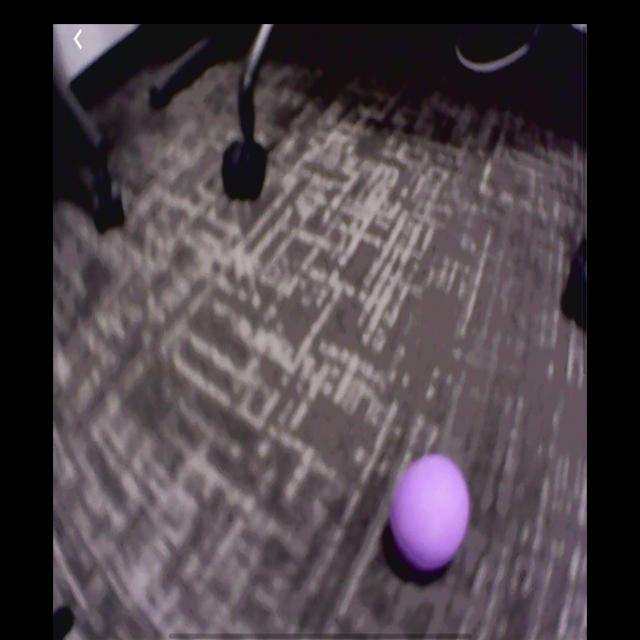ball: (393, 455, 469, 576)
